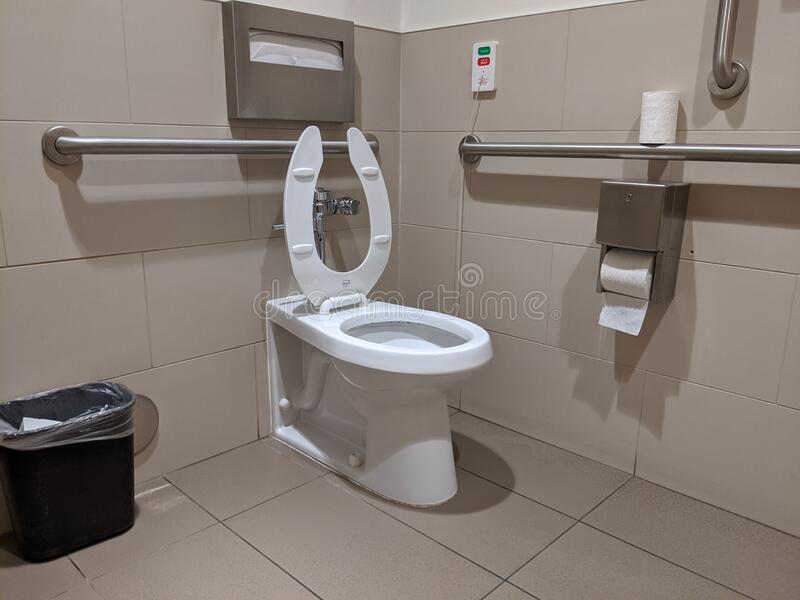dispenser: (589, 177, 692, 343), (223, 1, 355, 124)
restroom_assist_bar: (32, 130, 391, 172), (456, 137, 800, 173), (704, 2, 750, 96)
toilet: (265, 126, 495, 506)
toilet_handle: (274, 222, 290, 232)
waste_bin: (1, 371, 138, 566)
